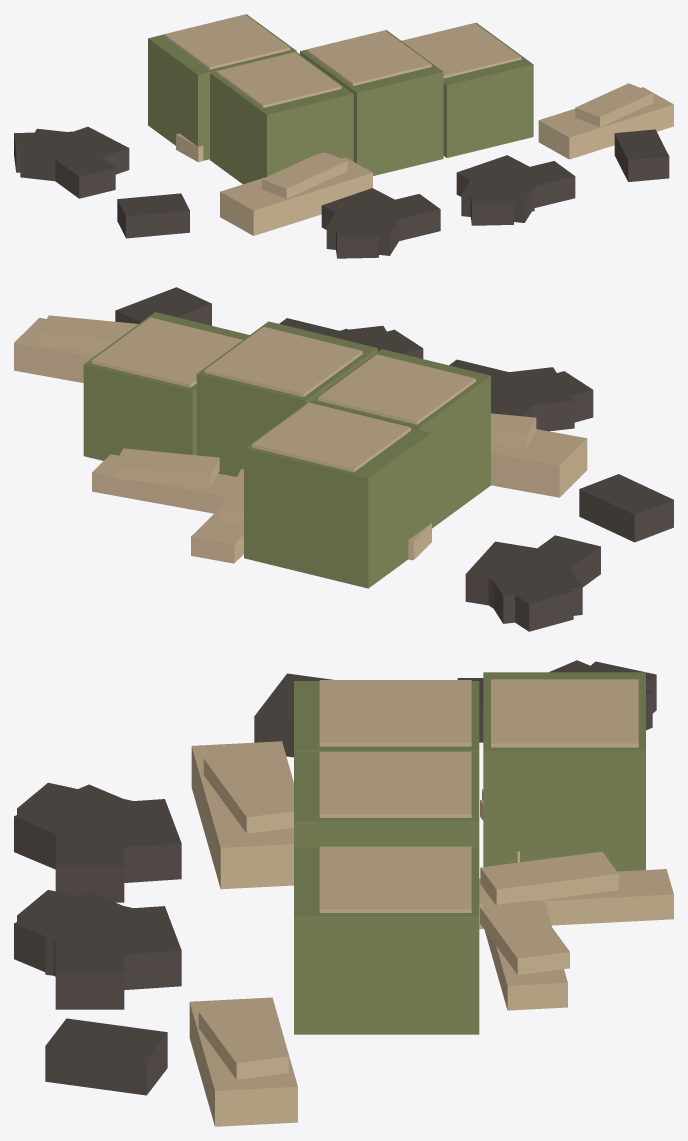
The model's file is SM_HescoRemate_v2_Escalonado_e2_MuyDanado_LOD1.fbx.
3 views of the same model, one above another, from view 1: azimuth 30°, elevation 25°; view 2: azimuth 150°, elevation 25°; view 3: azimuth 270°, elevation 25° (orthographic). The views are drawn at different scales.
Parts seen in each view (by area): view 1: SM_hesco_piezas_v30_LOD1; view 2: SM_hesco_piezas_v30_LOD1; view 3: SM_hesco_piezas_v30_LOD1.
Part boxes in pixels (<box>): SM_hesco_piezas_v30_LOD1: <box>14,14,673,258</box>; SM_hesco_piezas_v30_LOD1: <box>14,287,673,631</box>; SM_hesco_piezas_v30_LOD1: <box>14,660,673,1126</box>.
Bounding box in the file's own units: 6.71 × 1.06 × 4.34.
